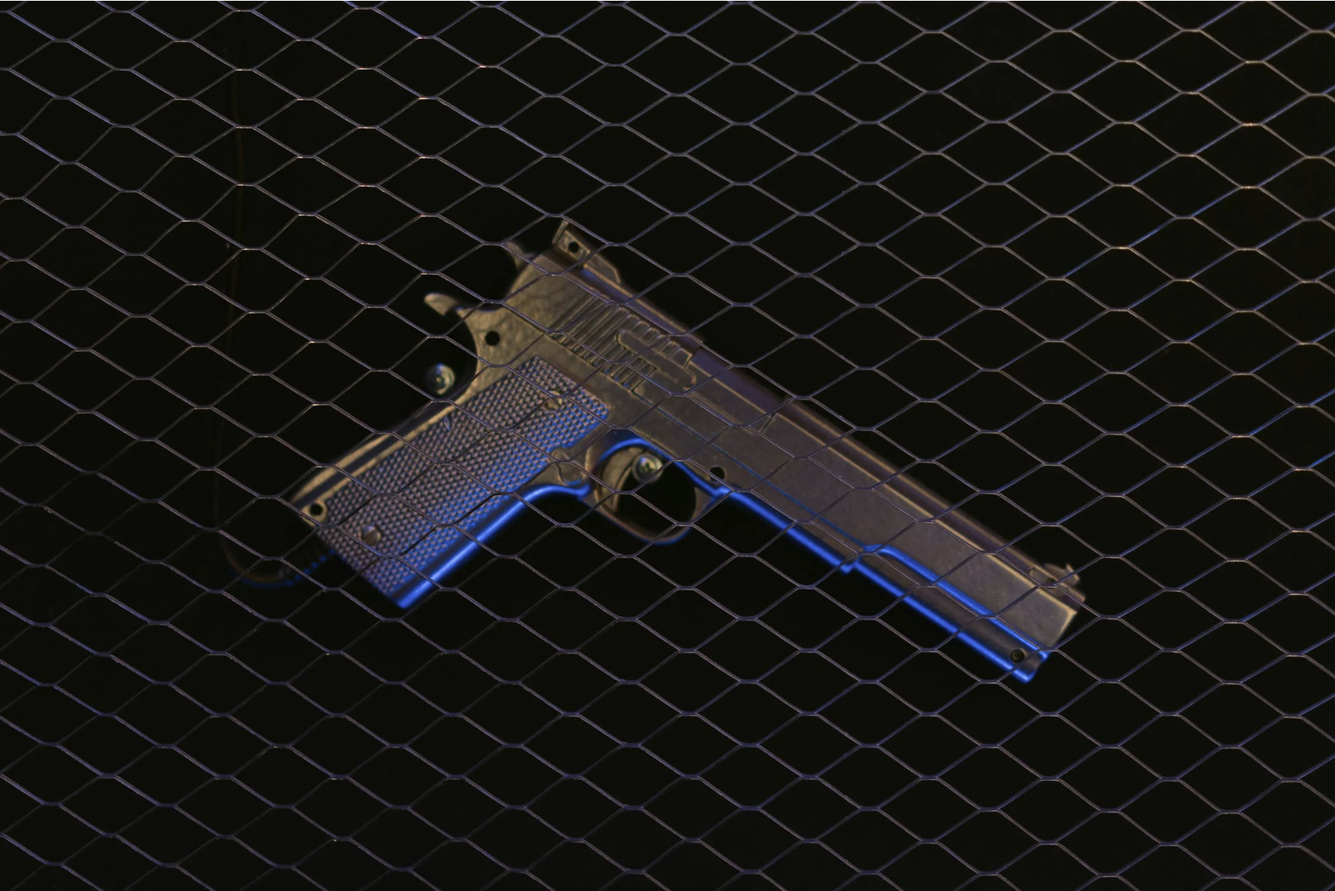gun_031.png: (259, 200, 1105, 713)
